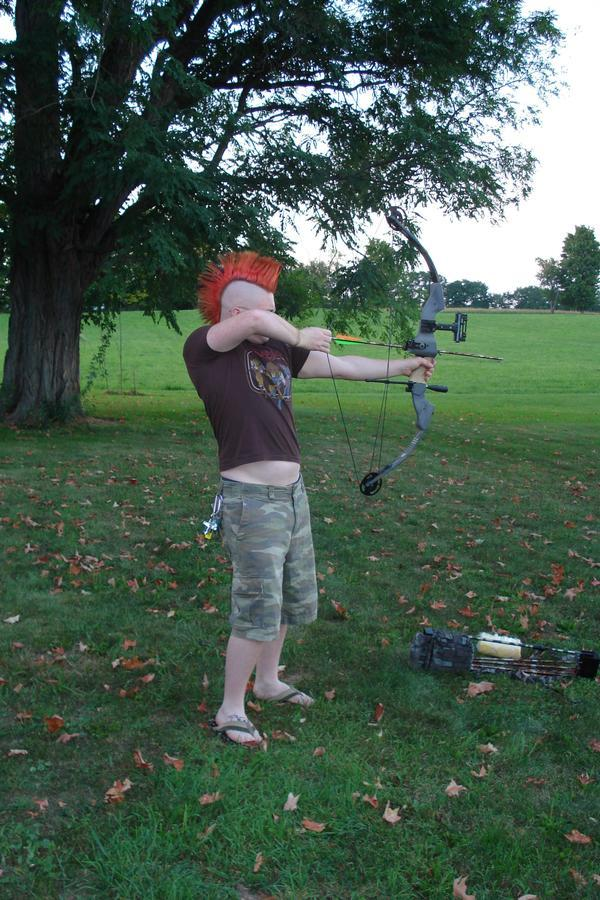person: (181, 252, 431, 752)
